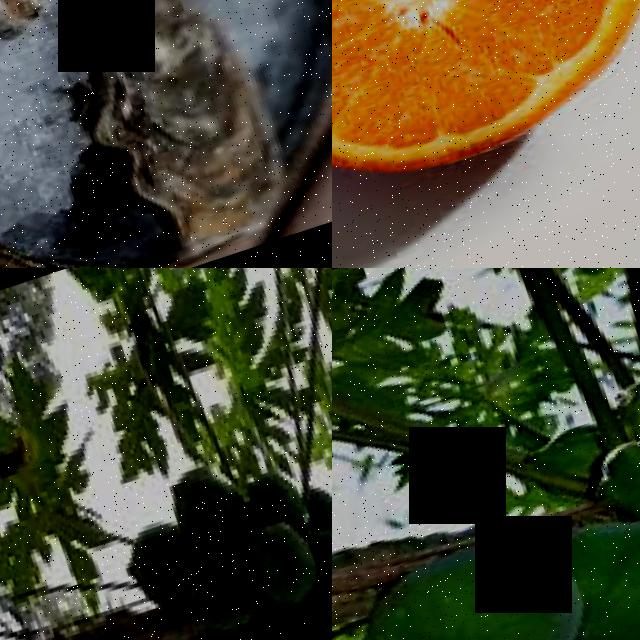orange: (332, 0, 640, 235)
oysters: (29, 0, 305, 268)
pawpaw: (336, 522, 600, 640), (545, 498, 640, 640), (161, 457, 256, 563), (172, 542, 265, 640), (239, 511, 324, 616), (111, 518, 204, 611), (579, 414, 640, 531), (299, 571, 332, 640)
